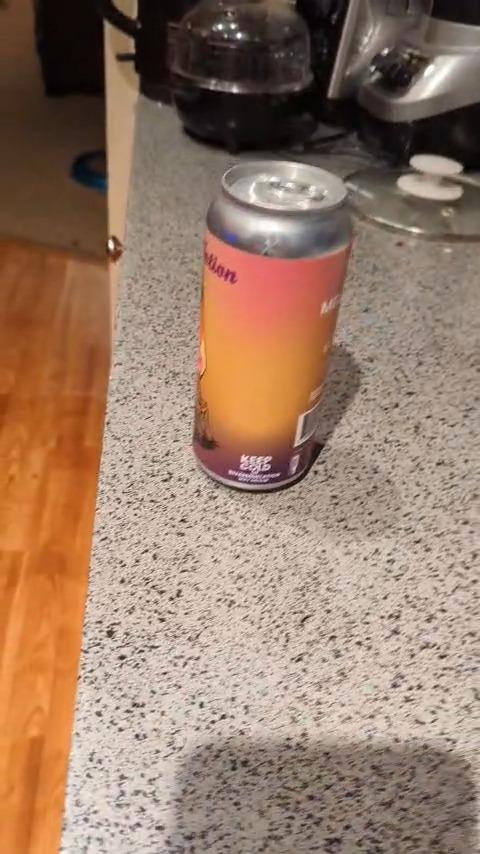metal: (194, 160, 351, 490)
